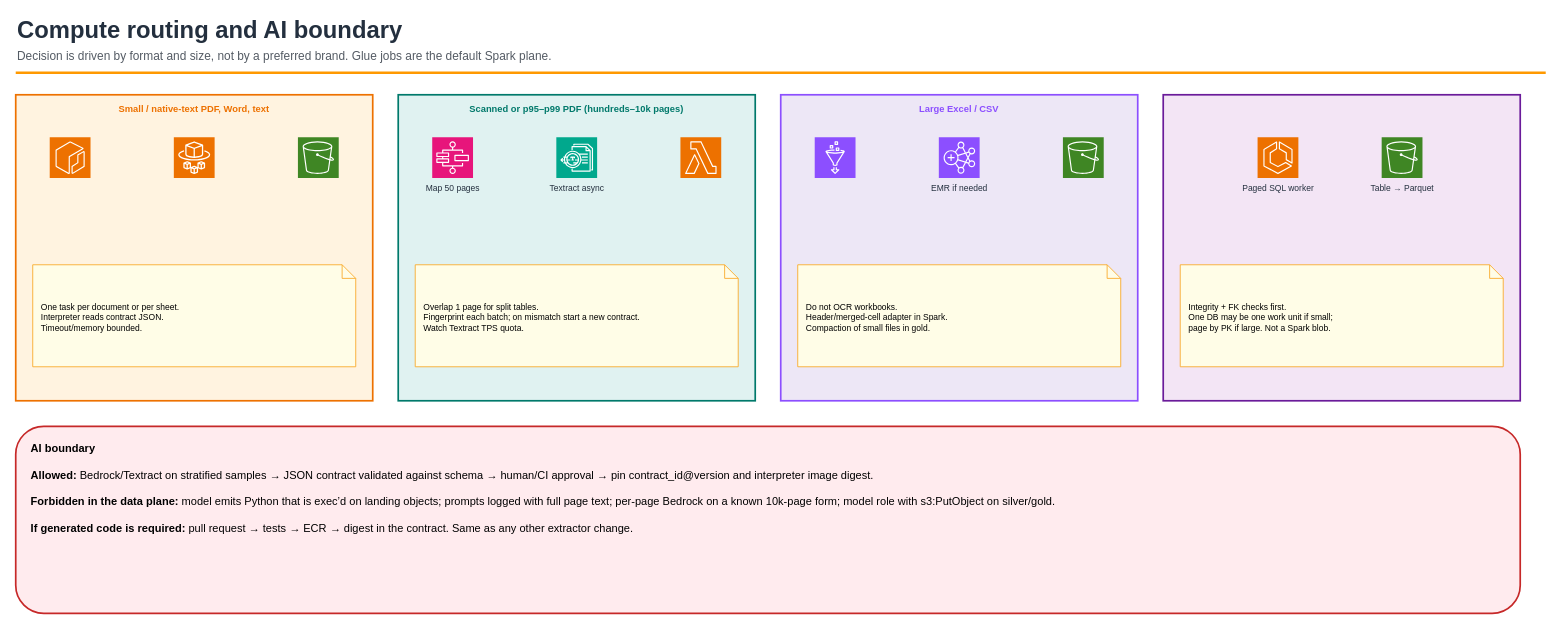
Some shapes in this 1561 by 628 pixel diagram are drawn without their labels. Each missing label, with the box of its shape:
ECR image: (49, 136, 91, 178)
ECS Fargate: (173, 136, 215, 178)
Glue Spark: (814, 136, 856, 178)
Reduce / merge: (680, 136, 721, 178)
Silver staging: (297, 136, 339, 178)
Splittable files: (1062, 136, 1104, 178)
SQLite snapshot: (1162, 94, 1521, 401)
